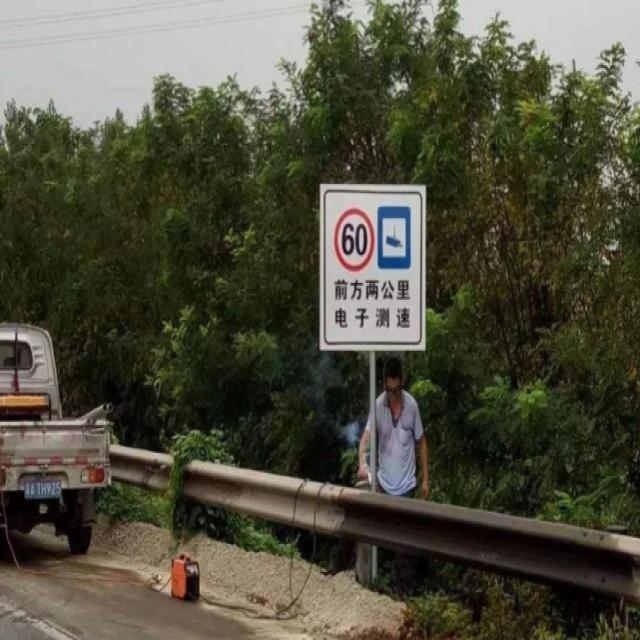speed limit 60: (333, 206, 375, 273)
